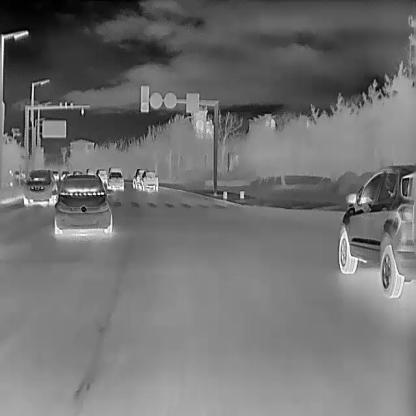car: (338, 164, 415, 298), (50, 173, 112, 234), (23, 169, 57, 205), (139, 171, 158, 190), (106, 171, 123, 189), (132, 168, 147, 188), (96, 168, 106, 184), (108, 166, 121, 170)
